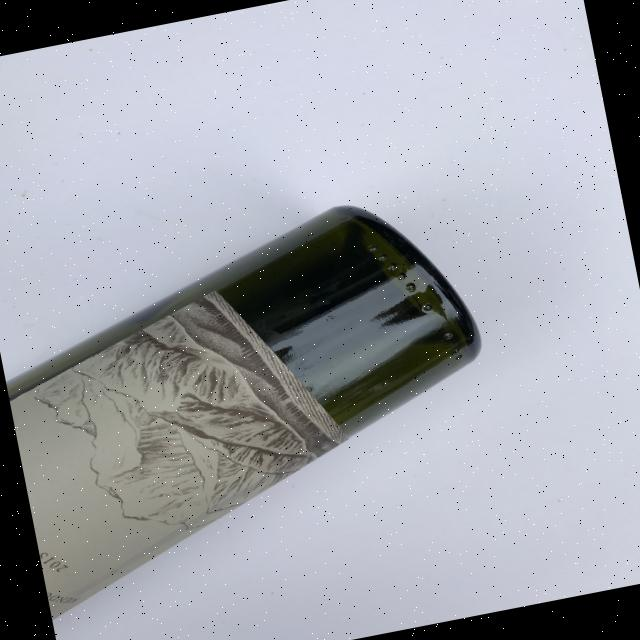glass: (0, 182, 518, 619)
